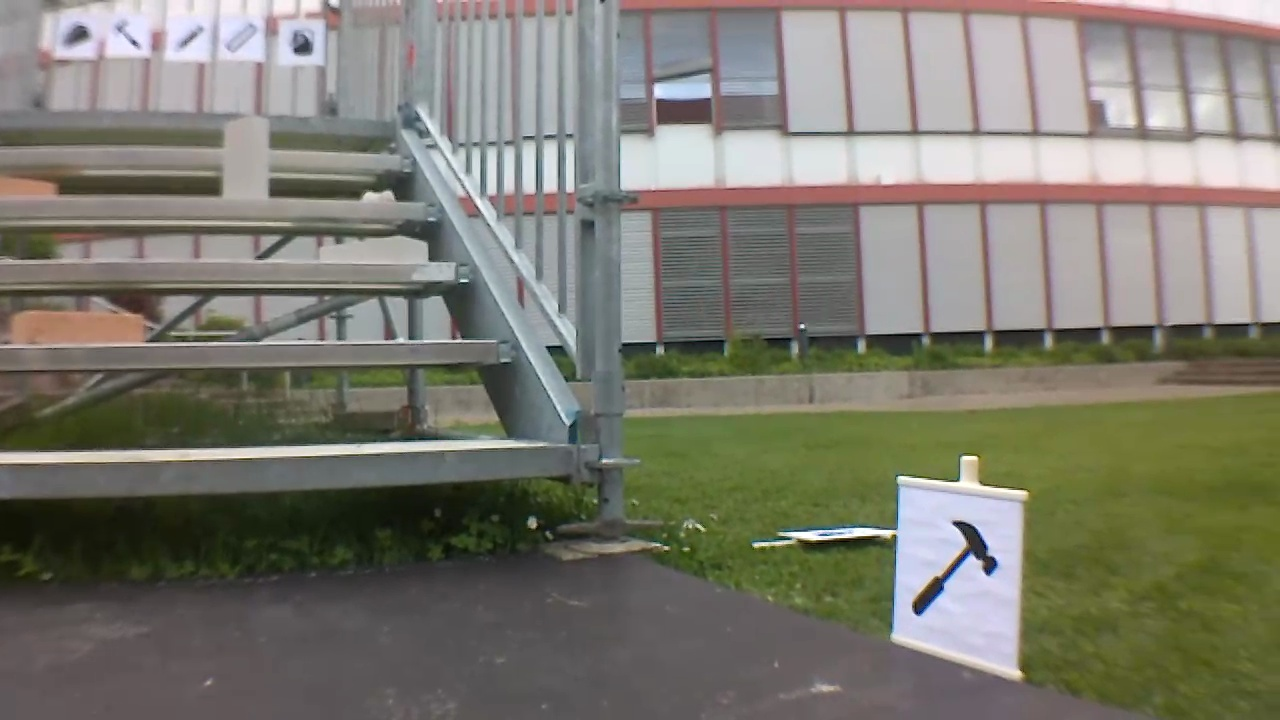brick: (12, 312, 140, 345), (223, 115, 267, 199), (321, 235, 427, 262), (2, 178, 54, 195)
bucket: (284, 22, 318, 60)
hammer: (902, 512, 1004, 633), (109, 17, 142, 52)
pencil: (168, 18, 205, 56)
ruler: (220, 19, 260, 57)
stairs: (3, 2, 654, 555)
steps: (3, 103, 574, 503)
taco: (54, 18, 91, 54)
